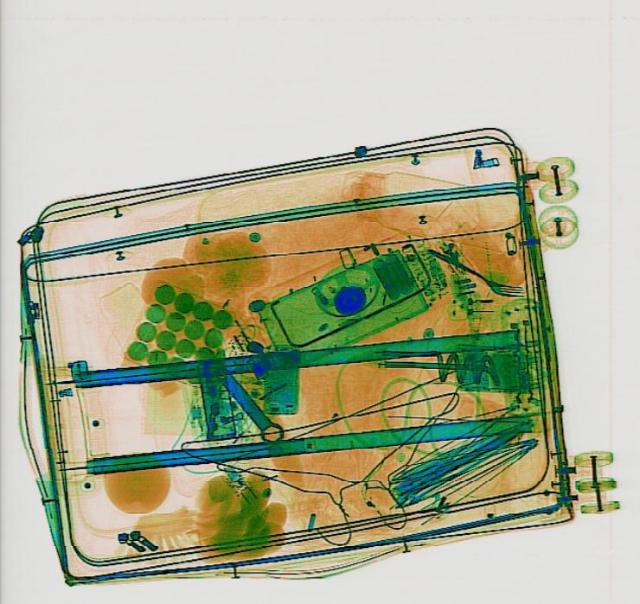Wrench: (205, 360, 288, 447)
